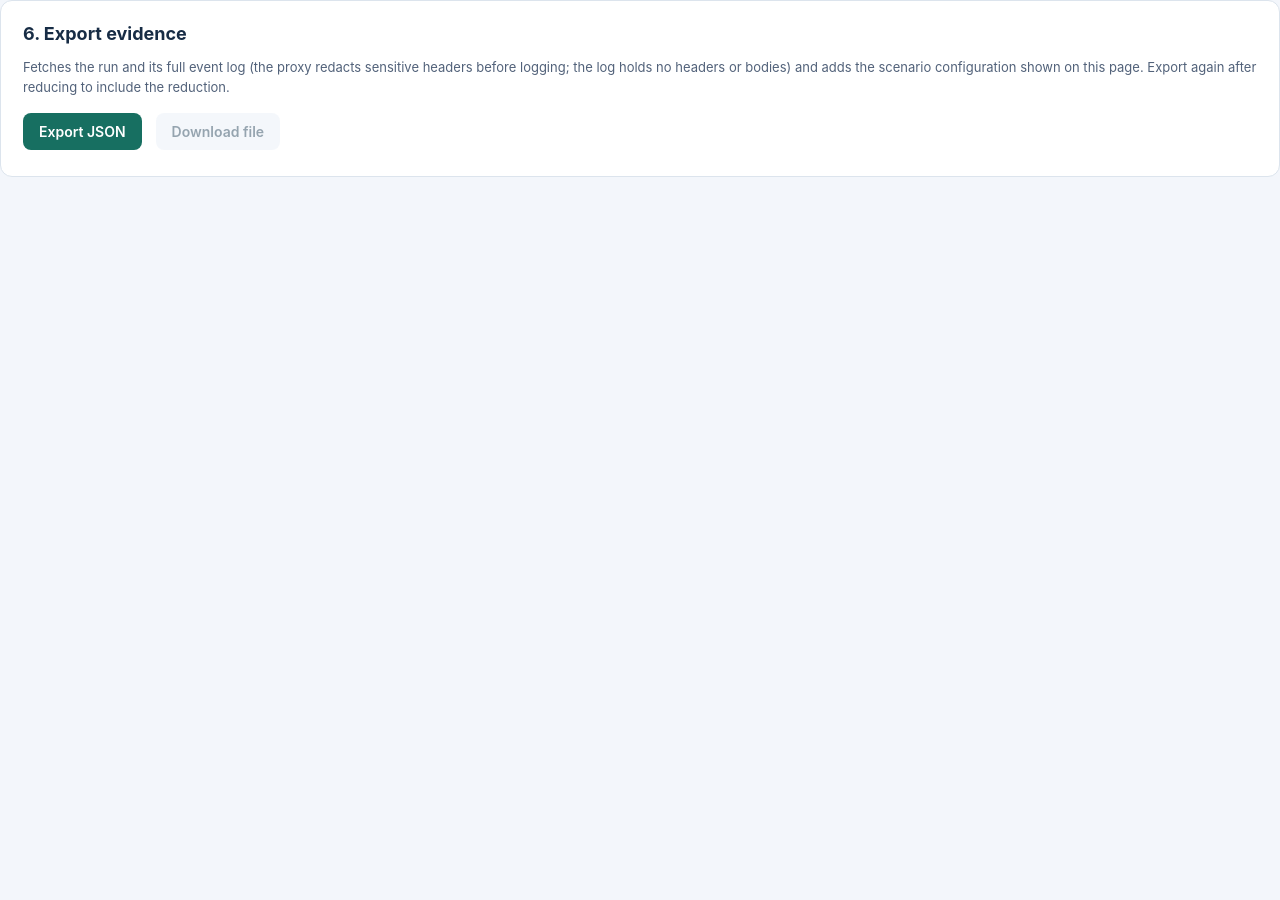
Test: <ExportPanel/> › notes an export without events
Click the button "Export JSON" at (82, 132), box x1=23 y1=113 x2=142 y2=150
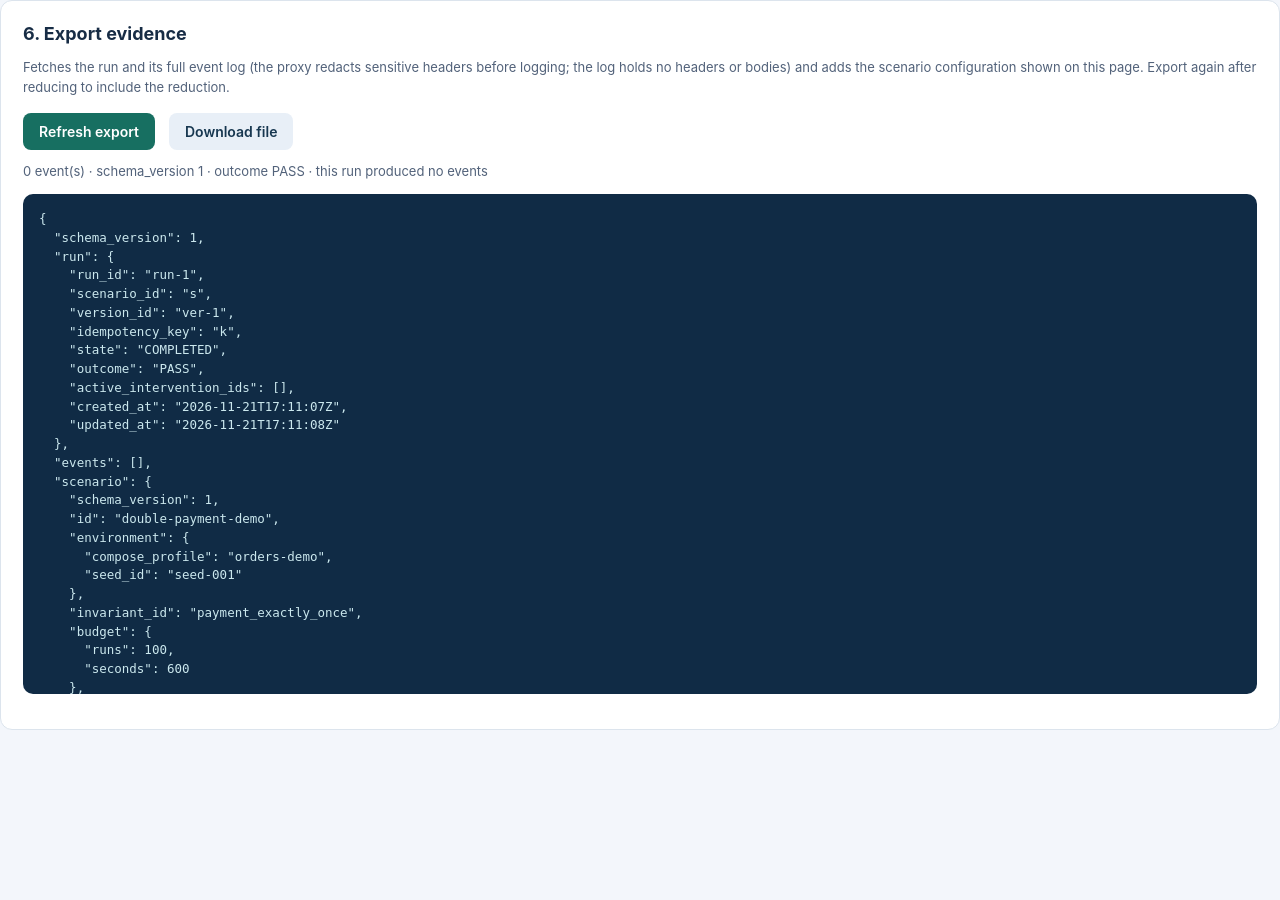
Check: the text "this run produced no events" is shown, box x1=305 y1=163 x2=488 y2=179
